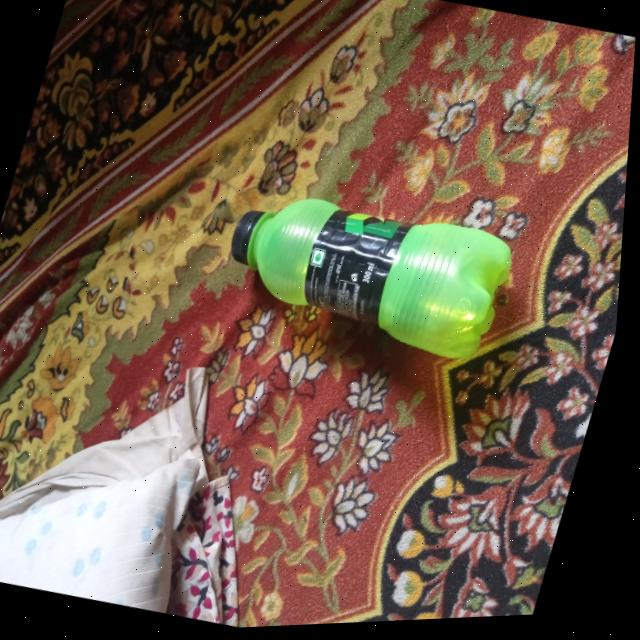Dry: (206, 167, 534, 384)
